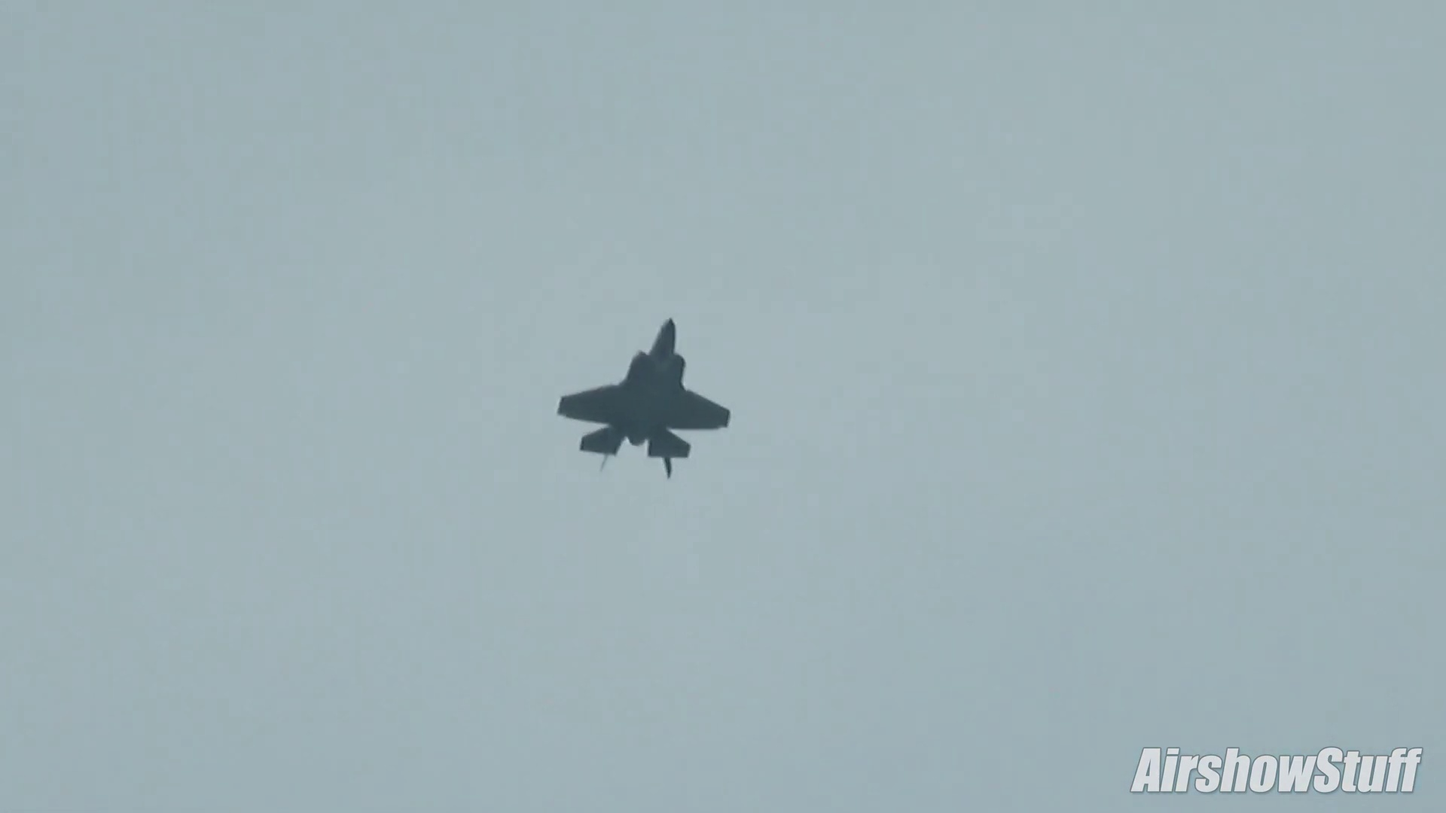F35: (548, 312, 743, 482)
